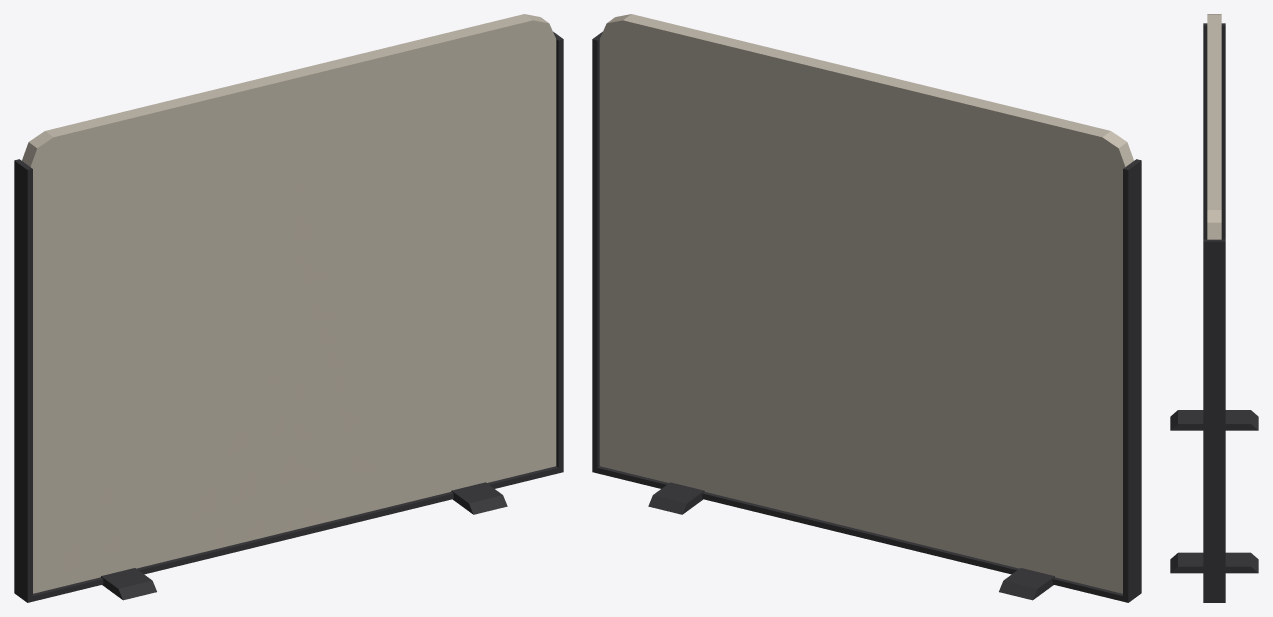
Rendered from 08_divider_black_high.glb.
The picture shows the model from 3 angles, left to right: view 1: azimuth 30°, elevation 25°; view 2: azimuth 150°, elevation 25°; view 3: azimuth 270°, elevation 25°; orthographic projection. The views are drawn at different scales.
Visible parts, largest first — view 1: PartitionDestructible_Part_001, Panel_fragment_2, Panel_fragment_3, Panel, Panel_fragment_1, Attachment_02_fragment_1, Attachment_02_fragment_3, Attachment_02_fragment_2, Attachment_02, Attachment_03; view 2: PartitionDestructible_Part_001, Panel, Panel_fragment_3, Panel_fragment_1, Panel_fragment_2, Attachment_02_fragment_1, Attachment_02_fragment_2, Attachment_03, Attachment_01_fragment_1; view 3: PartitionDestructible_Part_001, Attachment_02_fragment_3, Attachment_03_fragment_3, Panel_fragment_2, Attachment_01, Panel_fragment_3, Attachment_01_fragment_1, Panel_fragment_1.
Boxes of the visible parts, x1,y1,x2,y2 form: PartitionDestructible_Part_001: [14, 14, 563, 602]; Panel_fragment_2: [137, 59, 422, 545]; Panel_fragment_3: [367, 14, 555, 497]; Panel: [296, 30, 556, 498]; Panel_fragment_1: [31, 110, 198, 571]; Attachment_02_fragment_1: [14, 160, 198, 602]; Attachment_02_fragment_3: [426, 34, 563, 504]; Attachment_02_fragment_2: [196, 498, 428, 560]; Attachment_02: [14, 160, 287, 601]; Attachment_03: [451, 482, 503, 514]; PartitionDestructible_Part_001: [592, 14, 1141, 601]; Panel: [599, 29, 861, 524]; Panel_fragment_3: [600, 14, 795, 495]; Panel_fragment_1: [957, 110, 1128, 566]; Panel_fragment_2: [737, 54, 1021, 549]; Attachment_02_fragment_1: [957, 162, 1141, 602]; Attachment_02_fragment_2: [728, 499, 957, 560]; Attachment_03: [650, 482, 704, 513]; Attachment_01_fragment_1: [1001, 568, 1052, 597]; PartitionDestructible_Part_001: [1170, 14, 1258, 602]; Attachment_02_fragment_3: [1203, 239, 1225, 596]; Attachment_03_fragment_3: [1170, 552, 1258, 573]; Panel_fragment_2: [1207, 51, 1221, 142]; Attachment_01: [1173, 410, 1258, 430]; Panel_fragment_3: [1207, 142, 1221, 239]; Attachment_01_fragment_1: [1170, 410, 1258, 430]; Panel_fragment_1: [1207, 16, 1221, 50].
Size of the model in its own units: 3.06 by 2.5 by 0.523.
